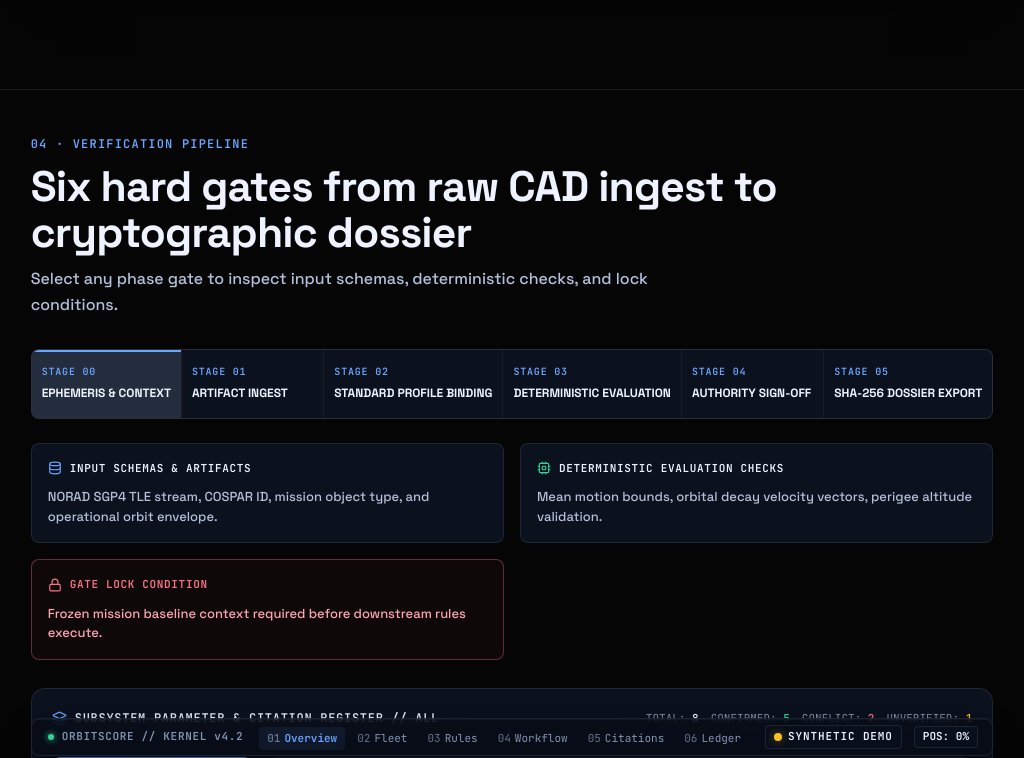
Test: Slice 9: Aerospace Telemetry Landing Page & Deterministic Command Engine › interactive 6-stage phase gate stepper updates gate technical specs on click
The width and height of the screenshot is (1024, 758).
(page scrolled)
Expected: the text "Mean motion bounds, orbital decay velocity vectors" is shown, 537,488 -> 972,525
// Click Stage 03 (Deterministic Evaluation)
Step 1. Click the tab "STAGE 03 DETERMINISTIC EVALUATION" → click(592, 384), box 504,350 -> 681,418
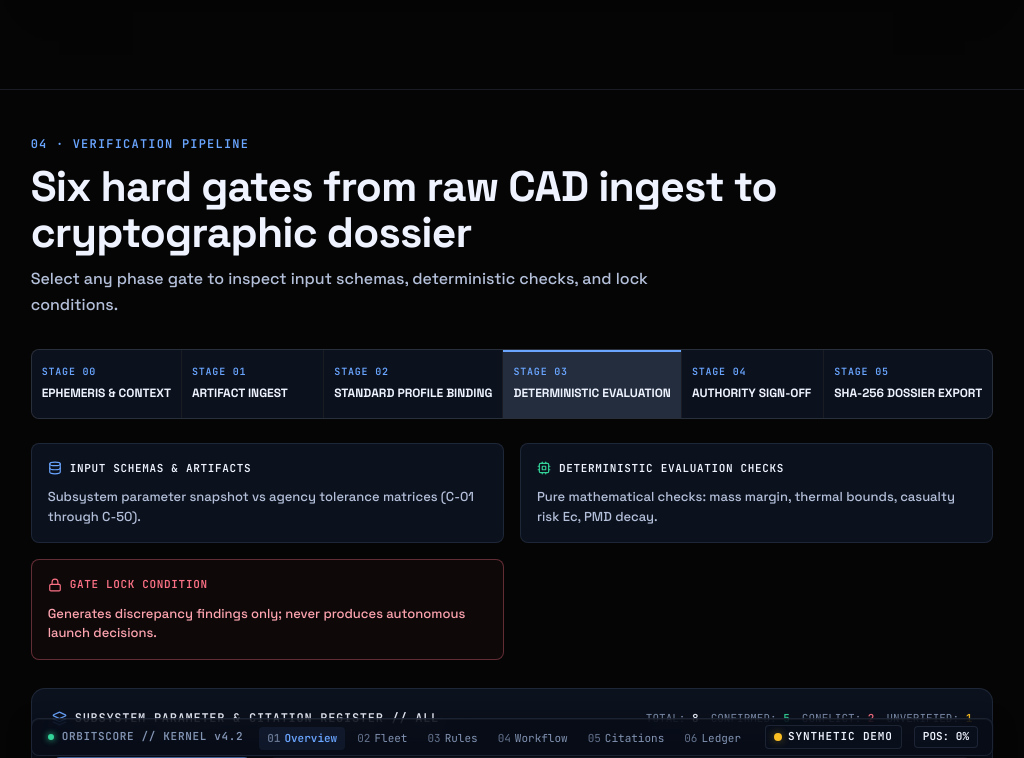
Result: the text "Pure mathematical checks: mass margin, thermal bounds" is shown at 537,488 -> 955,525
// Click Stage 05 (SHA-256 Dossier Export)
Step 2. Click the tab "STAGE 05 SHA-256 DOSSIER EXPORT" → click(908, 384), box 824,350 -> 992,418
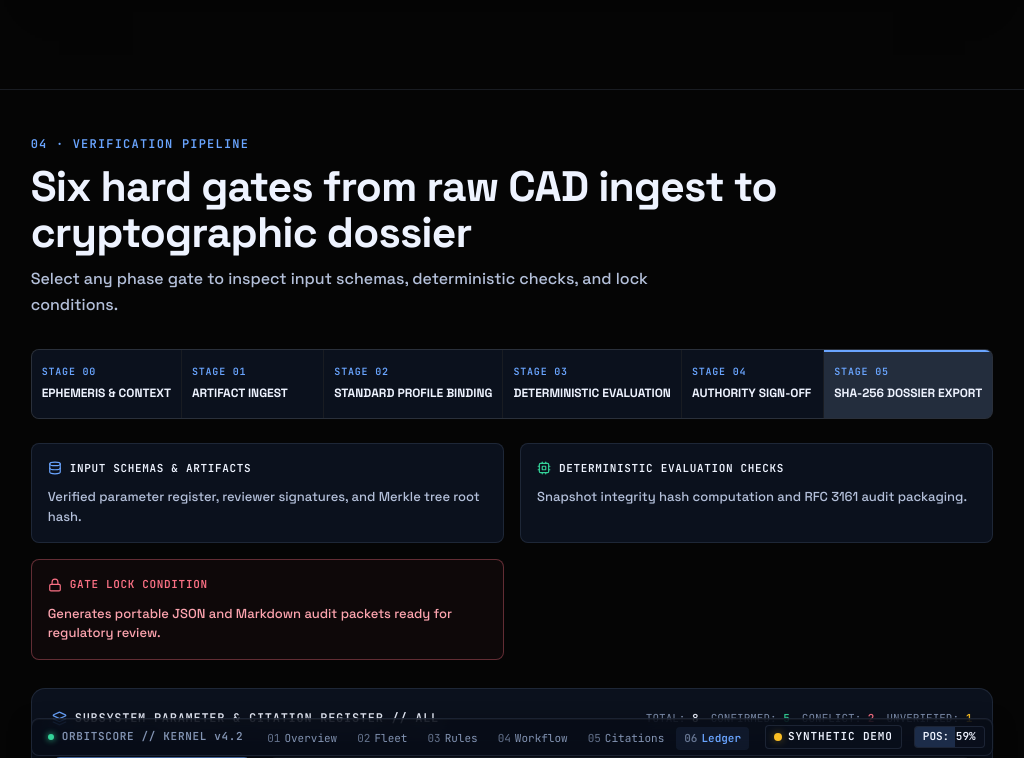
Result: the text "Generates portable JSON and Markdown audit packets ready for regulatory review" is shown at 48,605 -> 452,641
